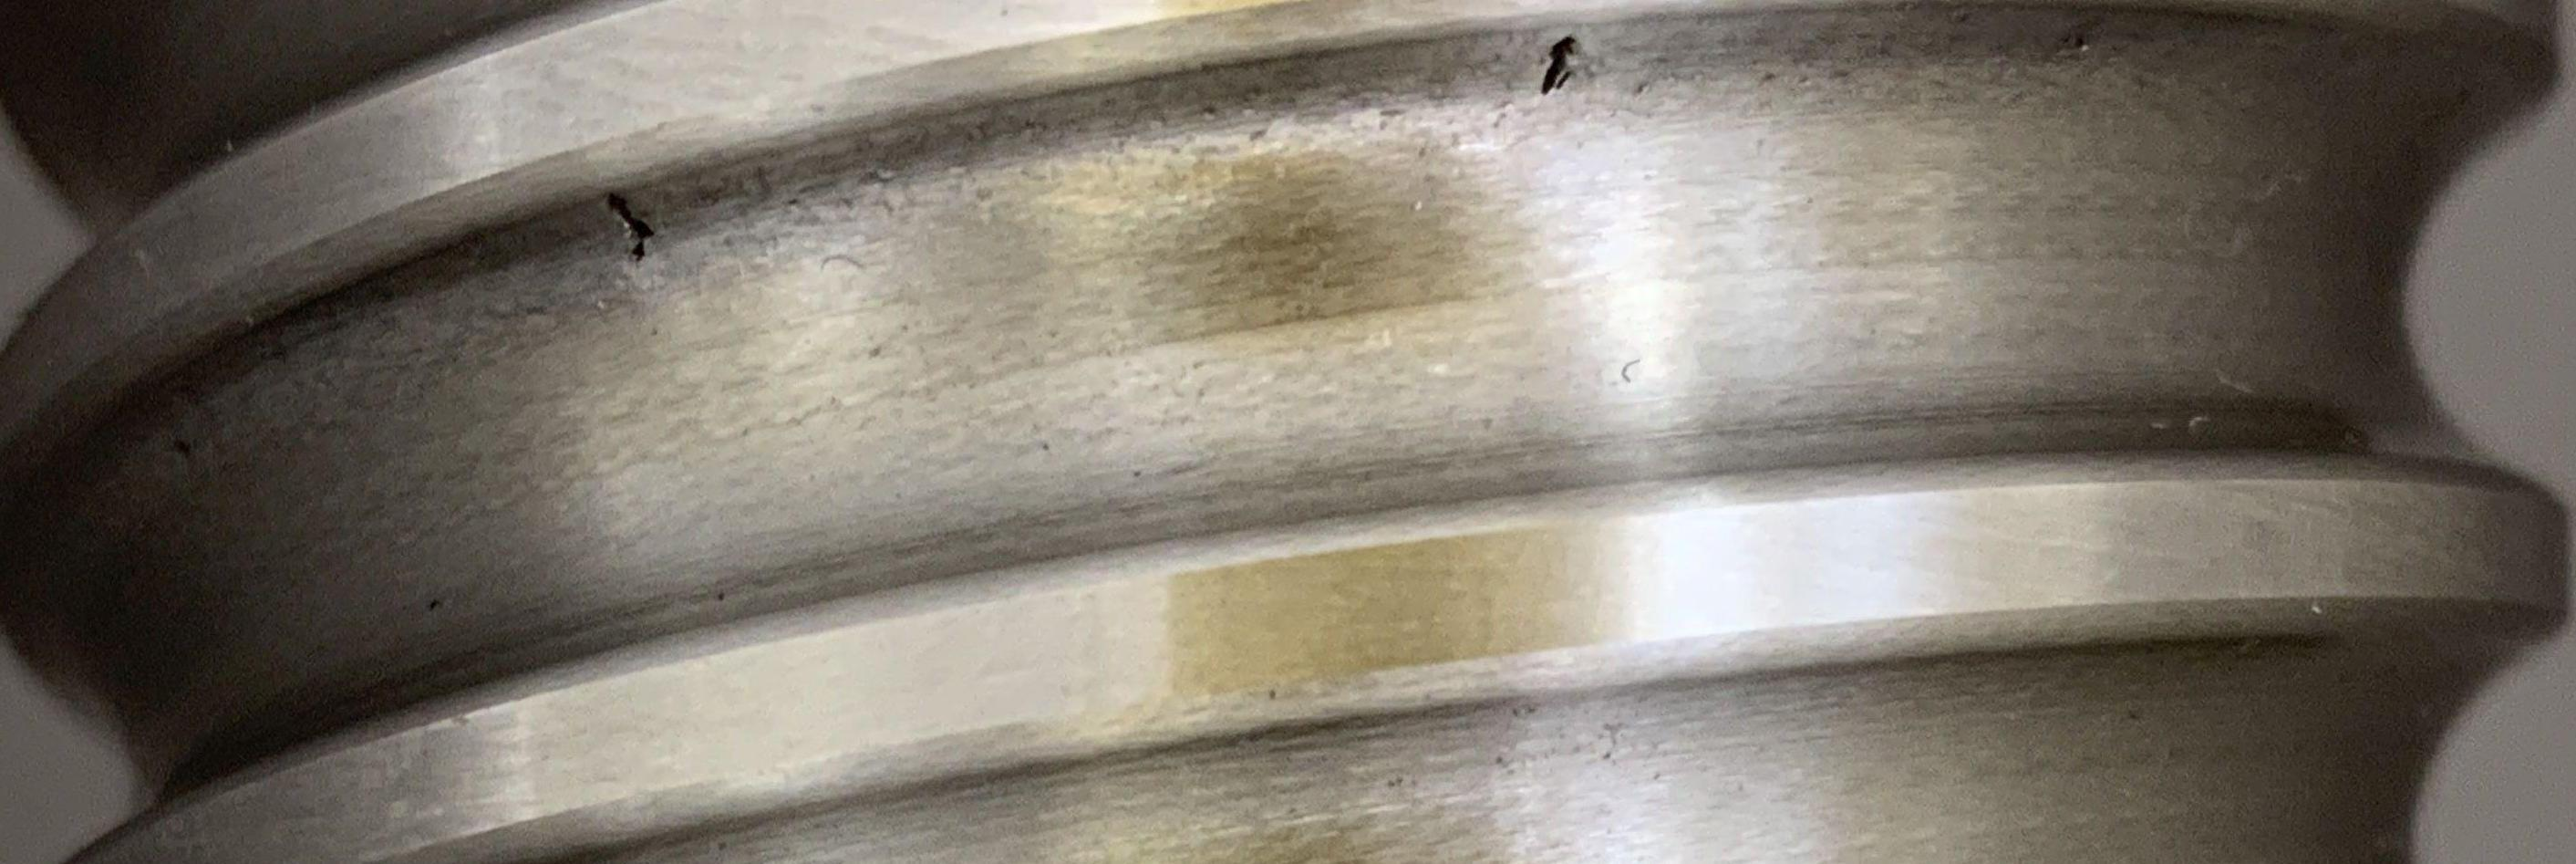pitting: (606, 192, 655, 263), (1539, 36, 1576, 95)
